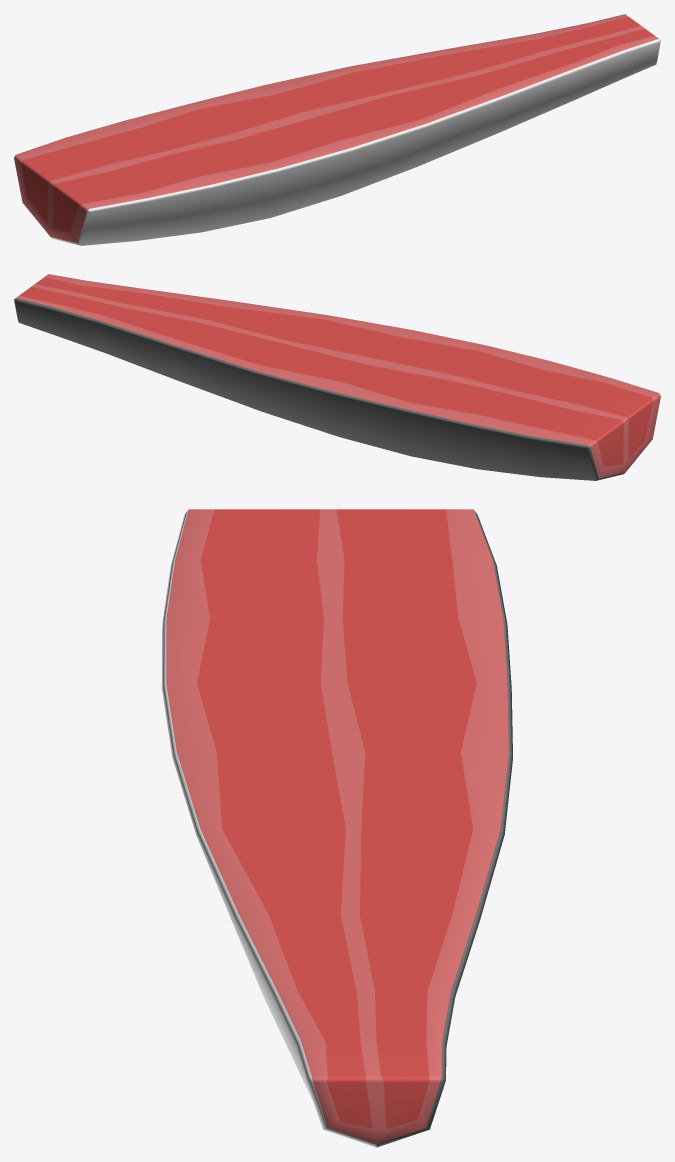
Rendered from Anchovy_2_Fillet.fbx.
The picture shows the model from 3 angles, top to bottom: view 1: azimuth 30°, elevation 25°; view 2: azimuth 150°, elevation 25°; view 3: azimuth 270°, elevation 25°; orthographic projection. The views are drawn at different scales.
Visible parts, largest first — view 1: Anchovy_2_Fillet; view 2: Anchovy_2_Fillet; view 3: Anchovy_2_Fillet.
Part boxes in pixels (box(x1,y1,x2,y2)): Anchovy_2_Fillet: box(14, 14, 660, 245); Anchovy_2_Fillet: box(14, 274, 660, 480); Anchovy_2_Fillet: box(162, 509, 512, 1147).
Size of the model in its own units: 13.04 by 1.57 by 3.39.
